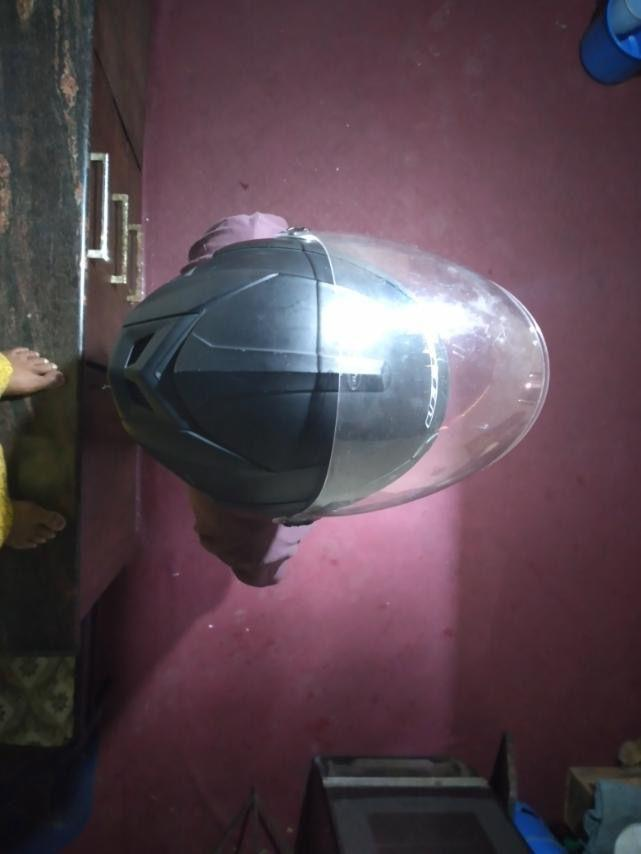helmet: (108, 222, 551, 527)
